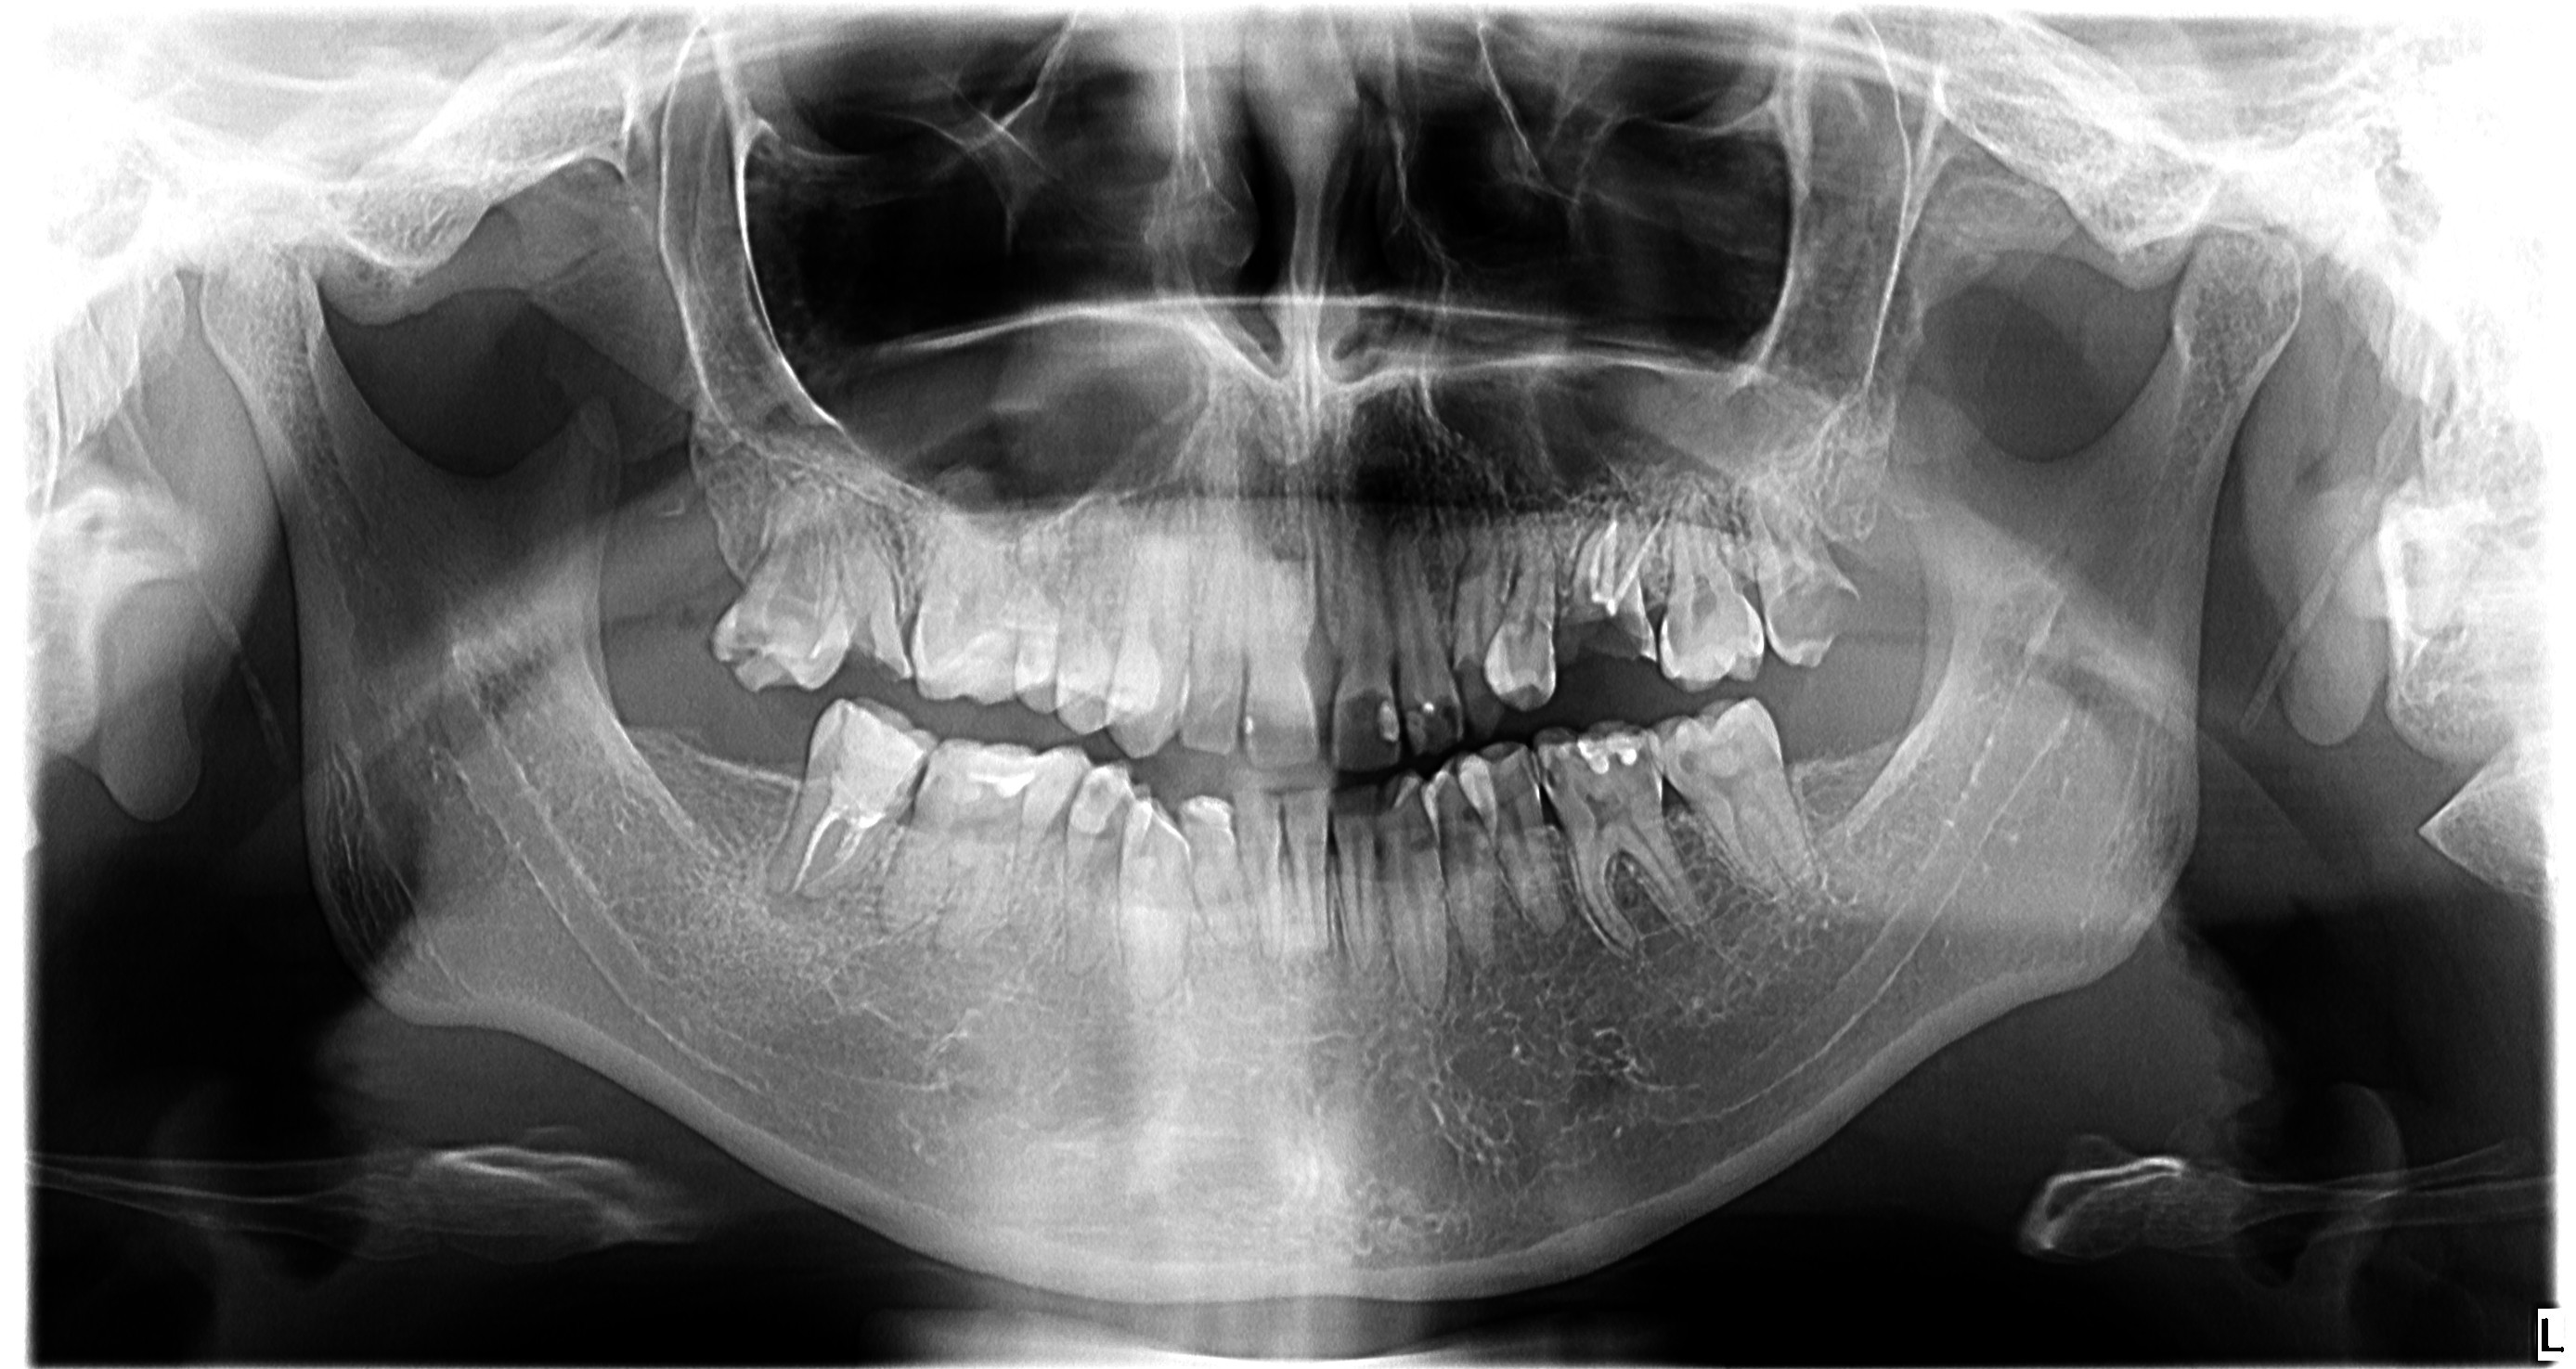API: (750, 868, 830, 933)
CAR: (1758, 569, 1881, 673), (1552, 599, 1658, 696), (801, 627, 915, 703), (1436, 645, 1513, 737), (704, 604, 779, 684), (884, 748, 942, 816), (1516, 748, 1576, 812), (1661, 739, 1712, 788), (1647, 613, 1692, 661), (1525, 645, 1564, 693), (1738, 623, 1765, 657)
END: (1576, 487, 1683, 598), (777, 807, 893, 899)
OBT: (799, 691, 925, 822), (922, 739, 1063, 816), (1566, 713, 1661, 782), (1360, 684, 1411, 748), (1402, 691, 1438, 756), (1233, 705, 1261, 744)
